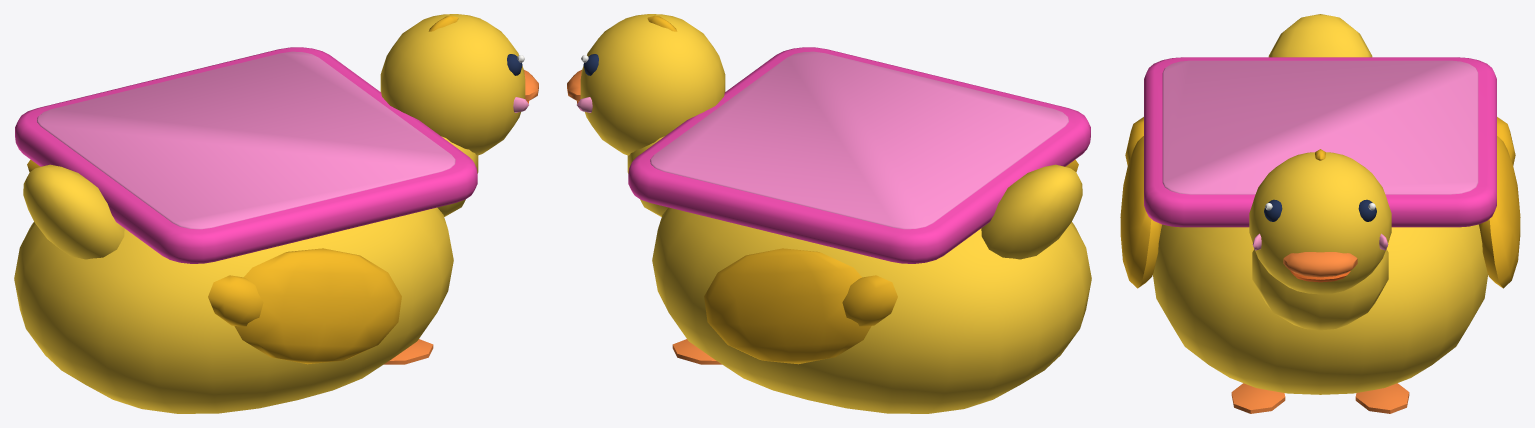
Rendered from toy_flat_duck.glb.
3 renders of one model, left to right at view 1: azimuth 30°, elevation 25°; view 2: azimuth 150°, elevation 25°; view 3: azimuth 270°, elevation 25°, orthographic. The views are drawn at different scales.
Parts seen in each view (by area): view 1: toy_flat_duck; view 2: toy_flat_duck; view 3: toy_flat_duck.
Boxes of the visible parts, x1,y1,x2,y2 form: toy_flat_duck: [14, 14, 538, 413]; toy_flat_duck: [567, 14, 1091, 413]; toy_flat_duck: [1120, 14, 1520, 413].
Bounding box in the file's own units: 14.17 × 8.04 × 10.01.
1 material, 1 textured.
